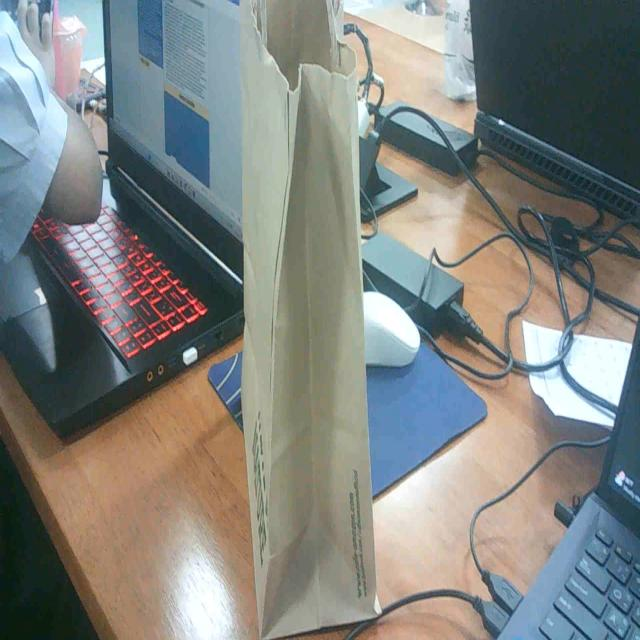bag: (240, 0, 379, 640)
